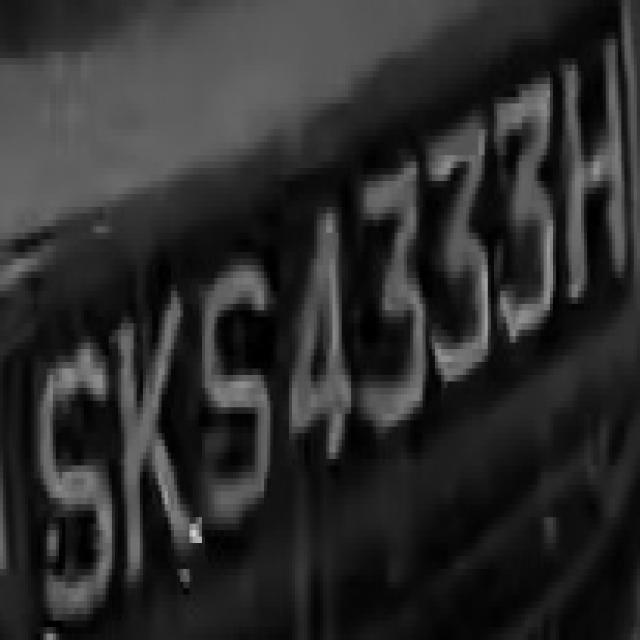3: (478, 71, 562, 356), (351, 149, 429, 446), (413, 116, 488, 394)
4: (276, 200, 358, 492)
H: (559, 32, 637, 304)
K: (106, 259, 190, 601)
S: (190, 246, 280, 530), (31, 336, 118, 614)
